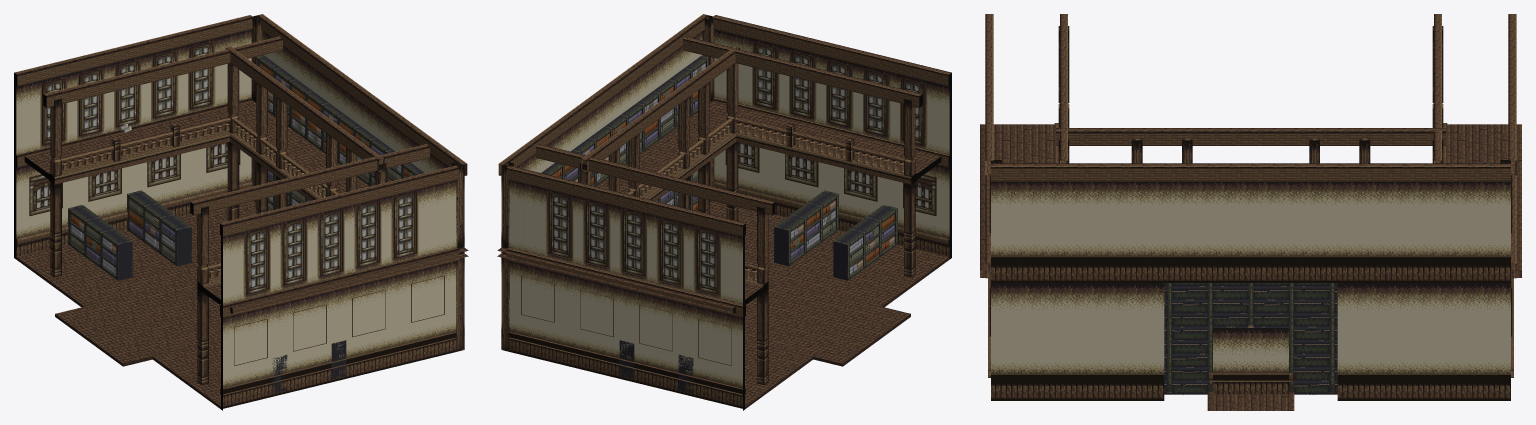
File: ObjMD_Library_A_Room.FBX
The picture shows the model from 3 angles, left to right: view 1: azimuth 30°, elevation 25°; view 2: azimuth 150°, elevation 25°; view 3: azimuth 270°, elevation 25°; orthographic projection. The views are drawn at different scales.
Parts seen in each view (by area): view 1: ObjMD_Library_A_Room; view 2: ObjMD_Library_A_Room; view 3: ObjMD_Library_A_Room.
Boxes of the visible parts, x1=… form: ObjMD_Library_A_Room: x1=14, y1=14, x2=468, y2=410; ObjMD_Library_A_Room: x1=497, y1=14, x2=951, y2=410; ObjMD_Library_A_Room: x1=980, y1=14, x2=1521, y2=410.
Size of the model in its own units: 2000 by 1200 by 2500.
